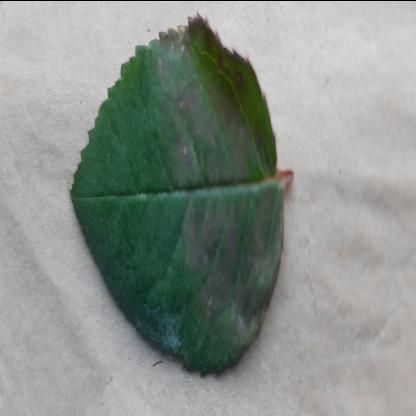downy-mildew: (68, 20, 284, 380)
